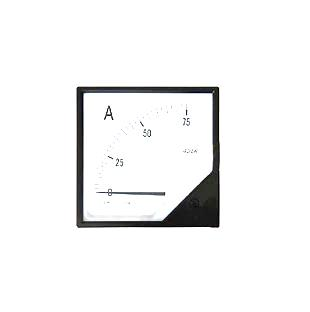pointer: (83, 91, 215, 221)
